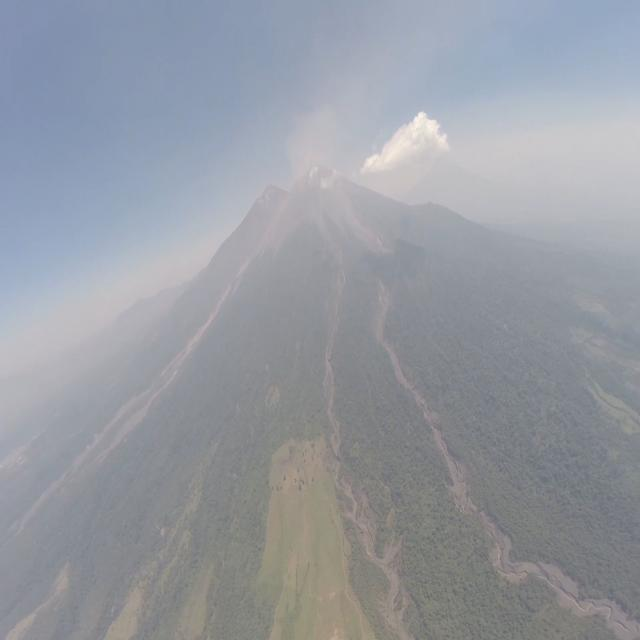Summit: (276, 154, 369, 213)
